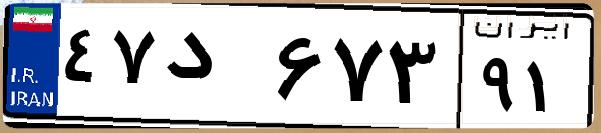1: (525, 38, 570, 115)
3: (385, 28, 445, 110)
4: (57, 26, 110, 100)
6: (270, 28, 330, 110)
7: (330, 28, 385, 110), (110, 28, 158, 98)
9: (475, 38, 525, 113)
د: (158, 20, 270, 120)
